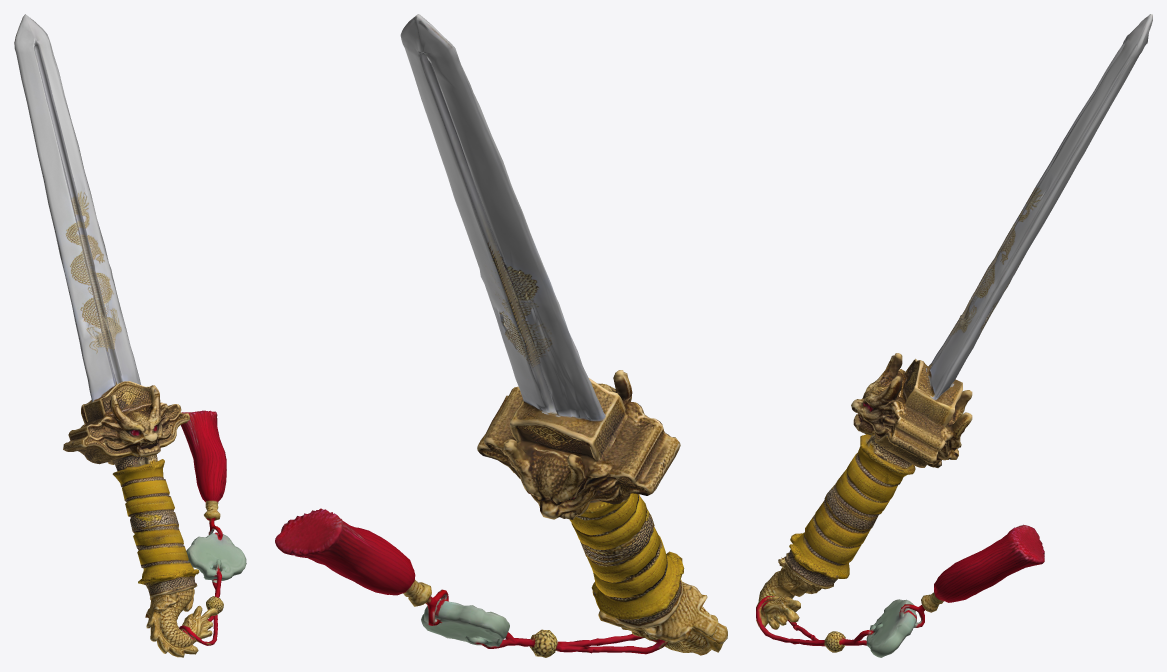
File: emperor_sward.glb
3 views of the same model, side by side, from view 1: azimuth 30°, elevation 25°; view 2: azimuth 150°, elevation 25°; view 3: azimuth 270°, elevation 25° (orthographic). The views are drawn at different scales.
Visible parts, largest first — view 1: tripo_node_adf8e28e-9cfb-48b5-9470-7095b59139f3; view 2: tripo_node_adf8e28e-9cfb-48b5-9470-7095b59139f3; view 3: tripo_node_adf8e28e-9cfb-48b5-9470-7095b59139f3.
Boxes of the visible parts, box(x1,y1,x2,y2) form: tripo_node_adf8e28e-9cfb-48b5-9470-7095b59139f3: box(14, 14, 246, 657); tripo_node_adf8e28e-9cfb-48b5-9470-7095b59139f3: box(275, 14, 727, 657); tripo_node_adf8e28e-9cfb-48b5-9470-7095b59139f3: box(756, 14, 1152, 657).
Size of the model in its own units: 0.3812 by 0.9789 by 0.5766.
Materials: 1 (1 with a texture image).
